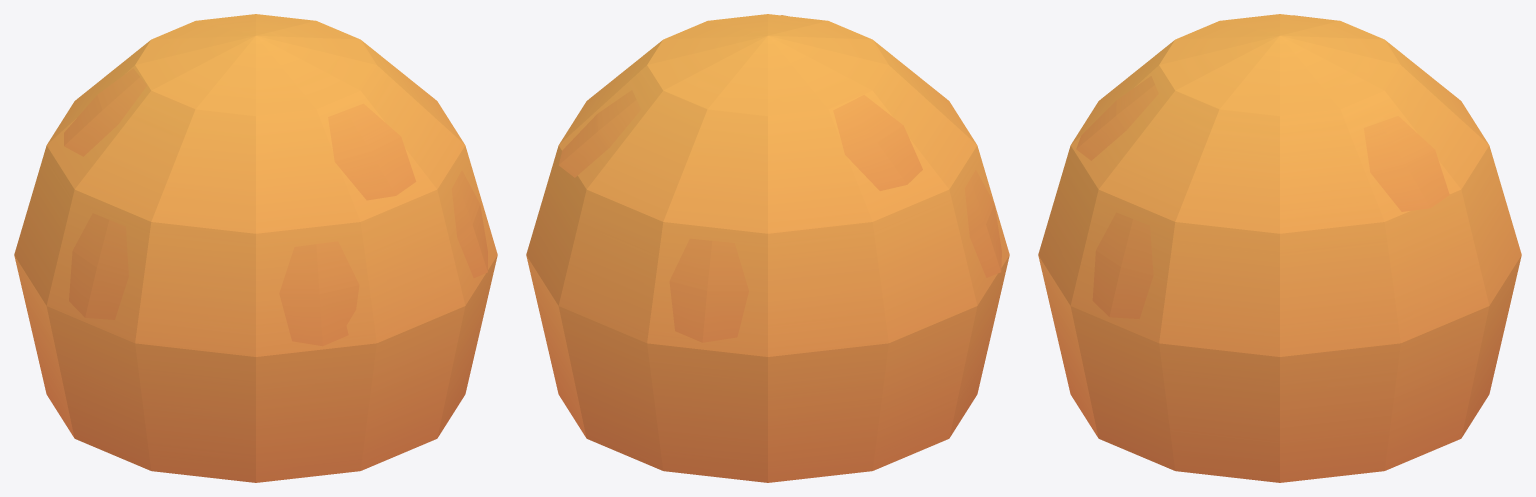
Rendered from CircularBush_Yellow.glb.
3 views of the same model, side by side, from view 1: azimuth 30°, elevation 25°; view 2: azimuth 150°, elevation 25°; view 3: azimuth 270°, elevation 25° (orthographic).
Visible parts, largest first — view 1: CircularBush_Yellow; view 2: CircularBush_Yellow; view 3: CircularBush_Yellow.
Boxes of the visible parts, box(x1,y1,x2,y2) form: CircularBush_Yellow: box(14, 14, 497, 482); CircularBush_Yellow: box(526, 14, 1009, 482); CircularBush_Yellow: box(1038, 14, 1521, 482).
Bounding box in the file's own units: 1.38 × 1.23 × 1.38.
1 material, 1 textured.
